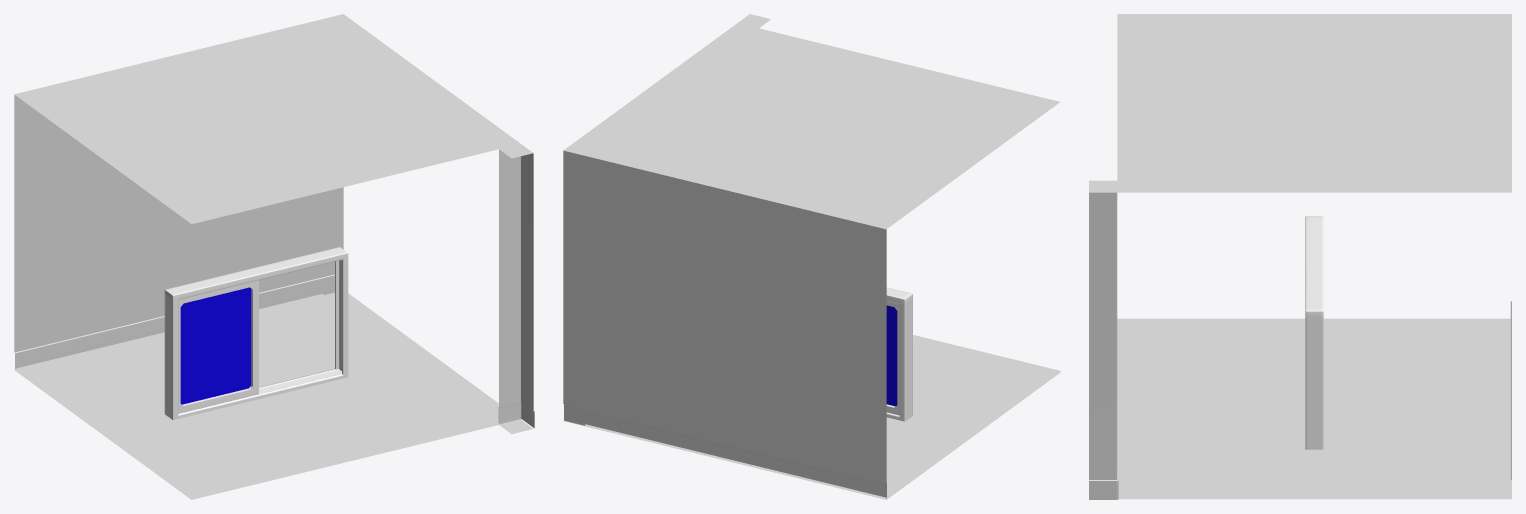
File: ConcreteBlockBuildingInside.fbx
3 views of the same model, side by side, from view 1: azimuth 30°, elevation 25°; view 2: azimuth 150°, elevation 25°; view 3: azimuth 270°, elevation 25° (orthographic). The views are drawn at different scales.
Parts seen in each view (by area): view 1: FloorCarpet, Roof, Wall, RoofH, DoorWay, WallC, Door, DoorFrame, WallH, RoofSL, FloorSL, WallS (+1 smaller); view 2: Wall, Roof, FloorCarpet, RoofH, WallH, DoorWay, WallS, RoofSL, DoorFrame, Door; view 3: Roof, FloorCarpet, RoofH, WallC, RoofSL, FloorSL, DoorFrame.
Boxes of the visible parts, x1,y1,x2,y2 form: FloorCarpet: (14,294,498,499); Roof: (14,19,498,223); Wall: (14,95,322,369); RoofH: (169,20,497,186); DoorWay: (14,95,322,366); WallC: (498,149,534,428); Door: (178,280,258,413); DoorFrame: (164,247,348,419); WallH: (168,193,322,306); RoofSL: (322,14,520,148); FloorSL: (324,292,520,424); WallS: (321,187,343,294); Wall: (585,156,886,498); Roof: (585,28,1059,229); FloorCarpet: (585,335,1060,499); RoofH: (586,28,907,190); WallH: (585,158,736,460); DoorWay: (585,156,886,497); WallS: (563,150,585,425); RoofSL: (563,23,758,155); DoorFrame: (886,287,912,421); Door: (886,300,899,415); Roof: (1117,14,1511,180); FloorCarpet: (1117,318,1511,486); RoofH: (1117,97,1511,180); WallC: (1089,192,1118,499); RoofSL: (1117,180,1511,192); FloorSL: (1118,487,1511,499); DoorFrame: (1305,216,1323,449).
Size of what is drawn, in the model's own units: 602 by 490 by 600.
